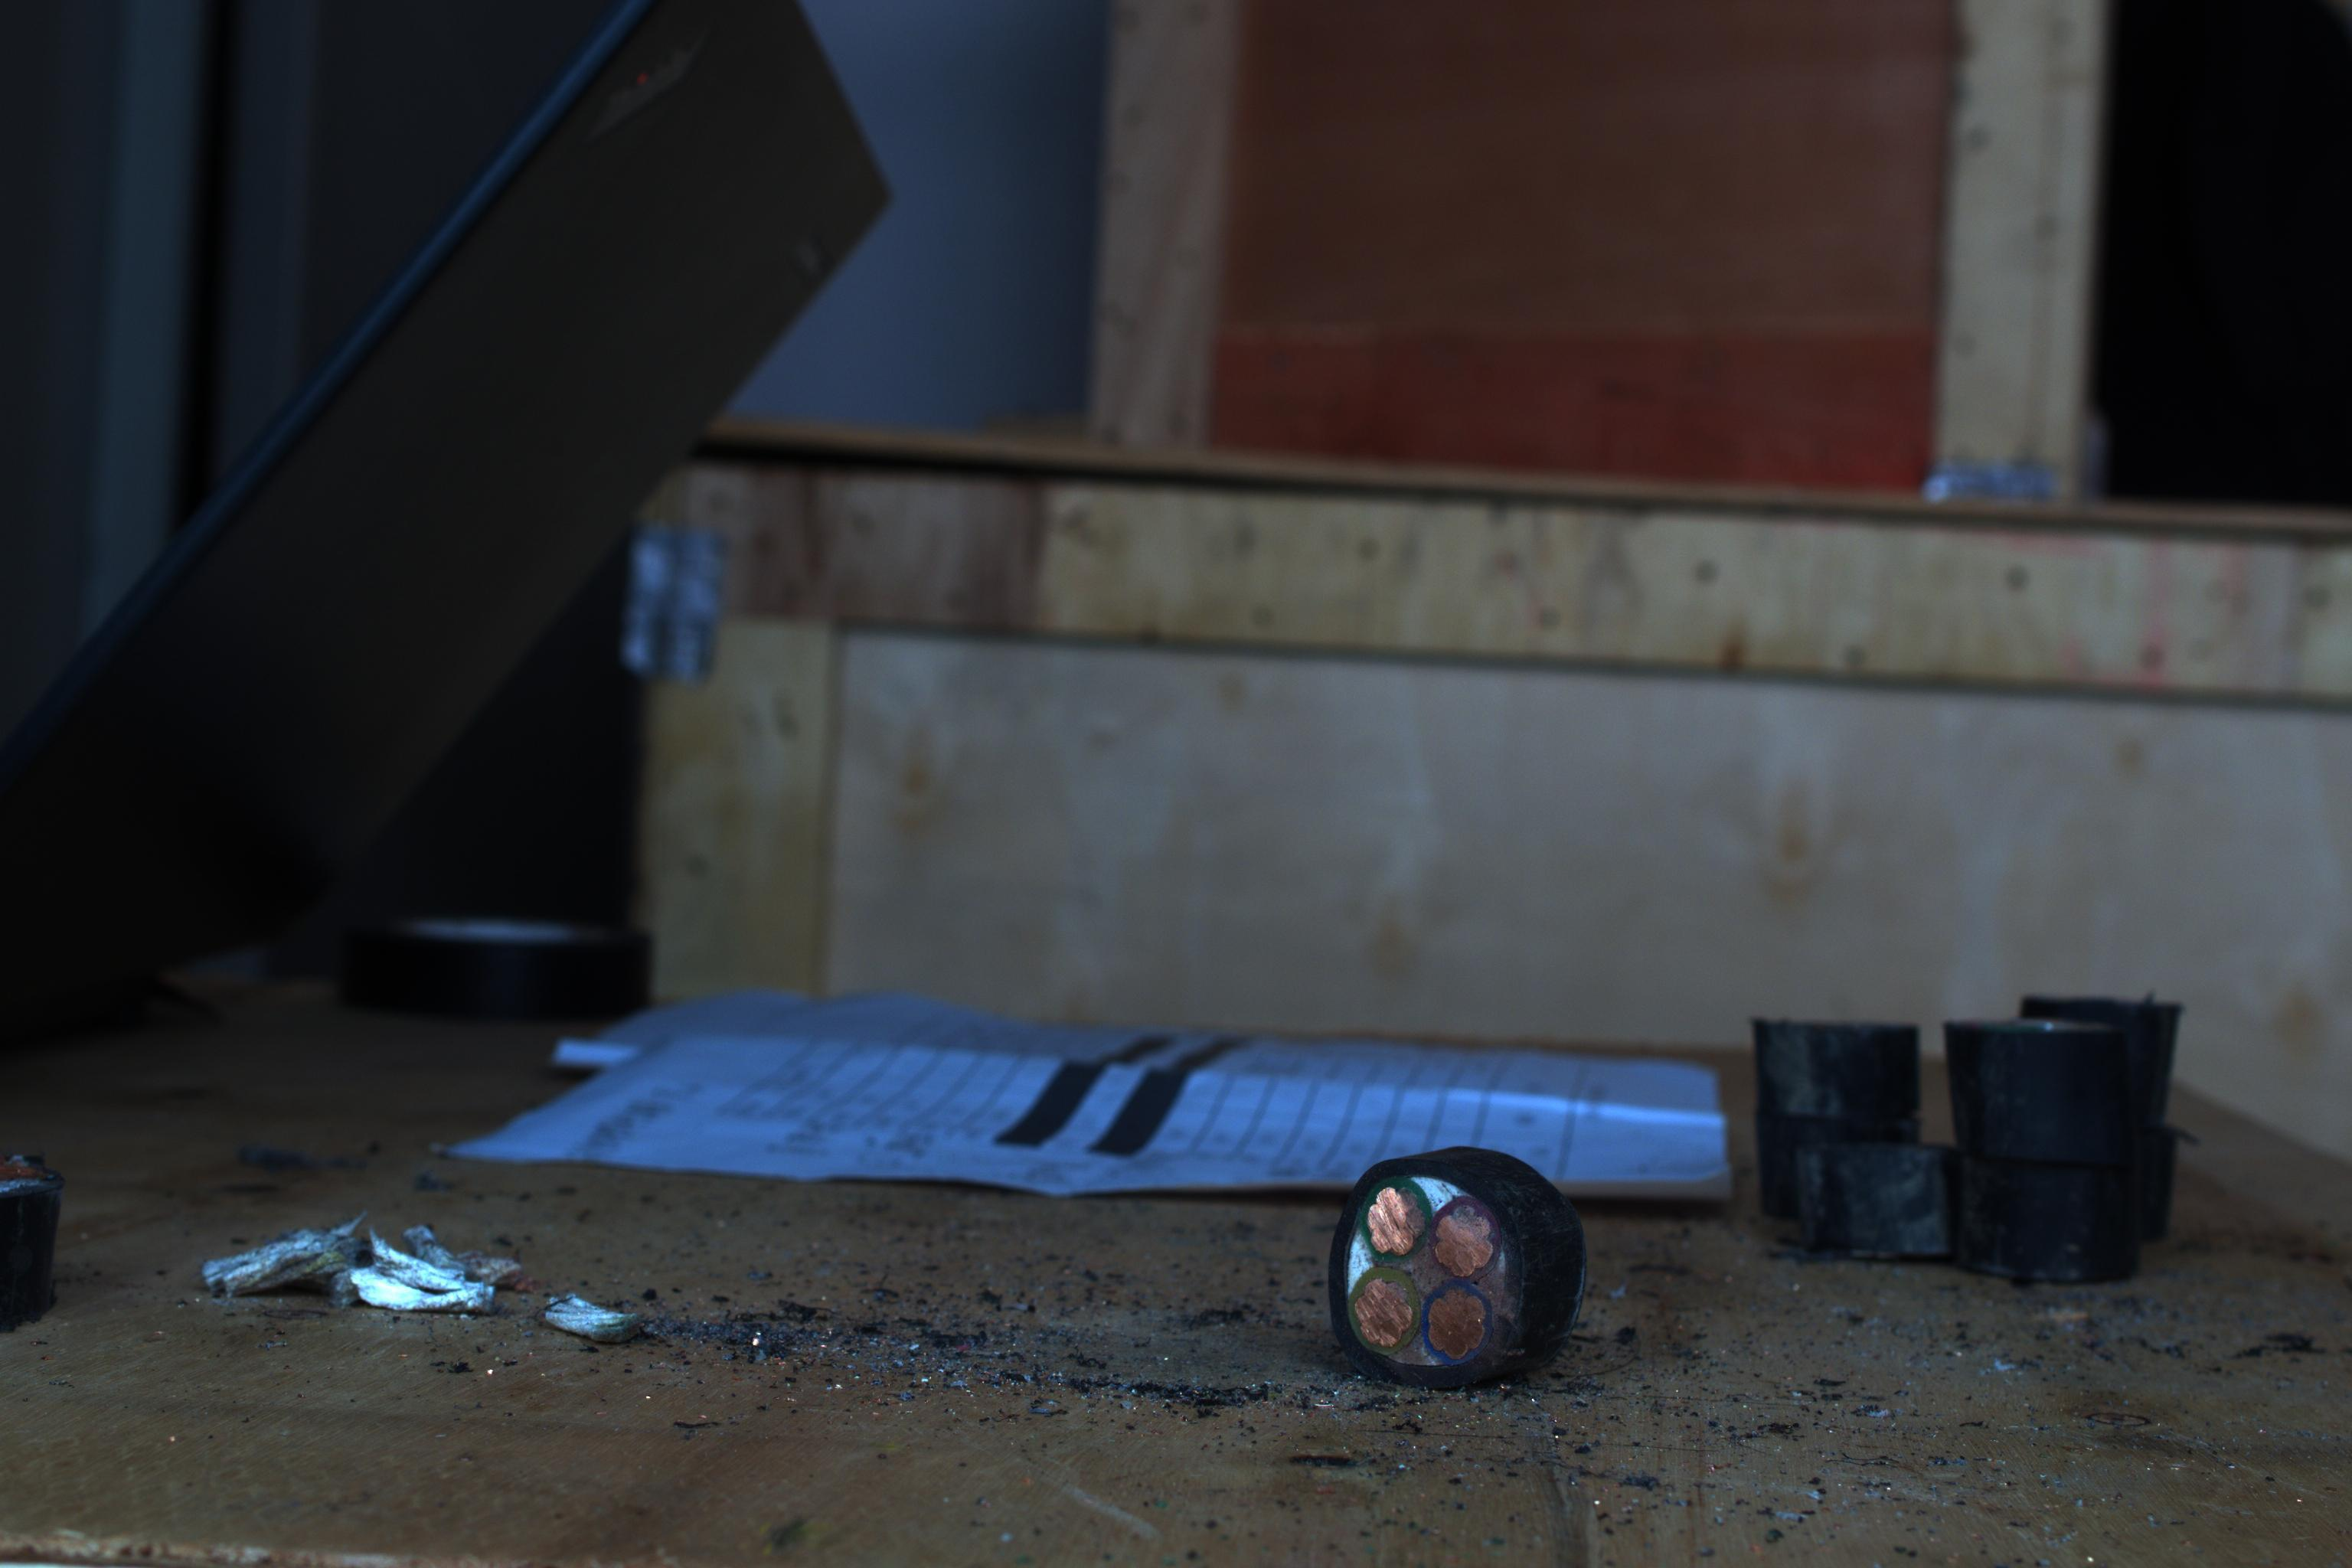YJV_0.6_1kV_4x35: (1305, 1153, 1556, 1402)
